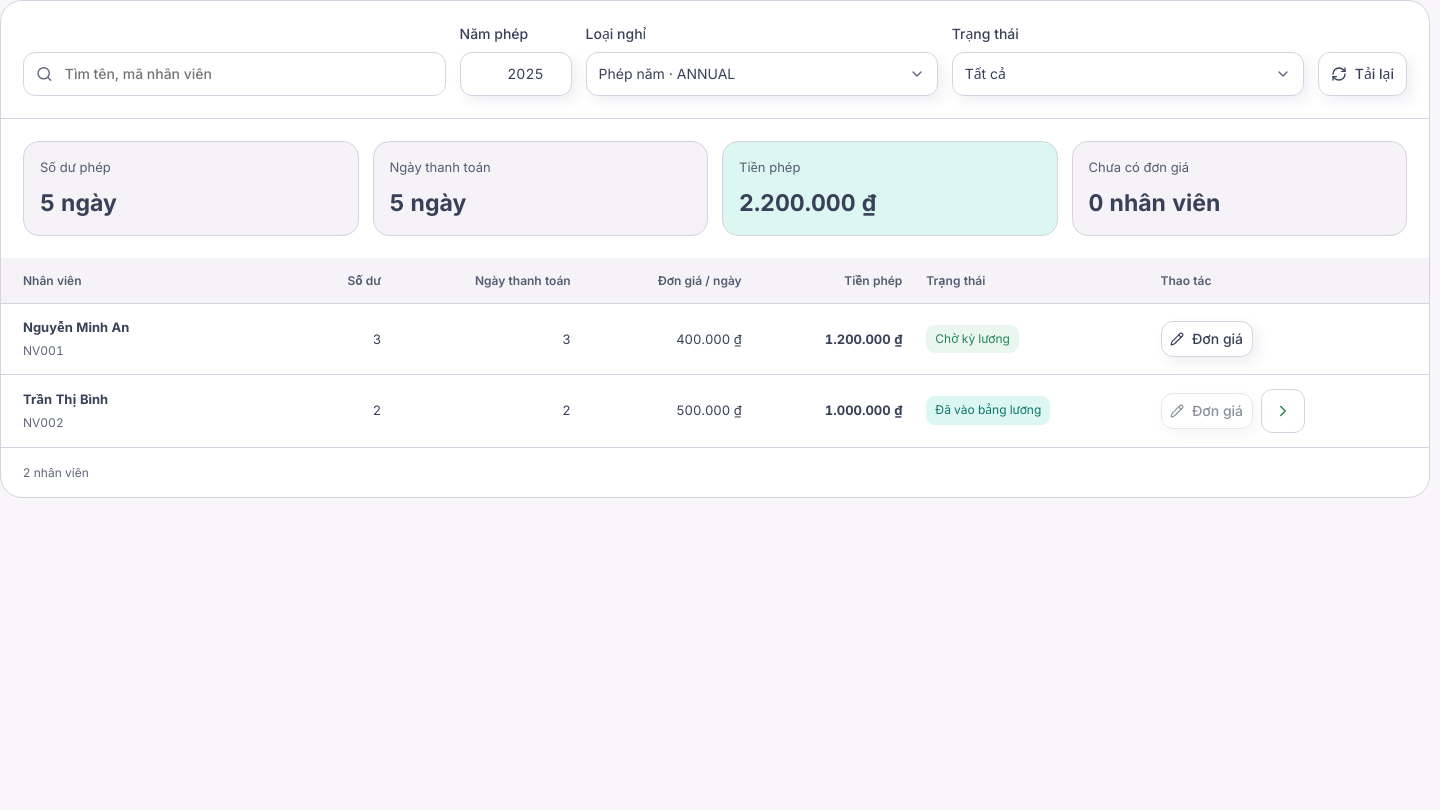
year-end leave settlement UI › preserves the editor and re-enables saving after a version conflict
Click the button "Đơn giá" in the row of "Nguyễn Minh An". click: [1206, 339]
box: left=1160, top=321, right=1252, bottom=357
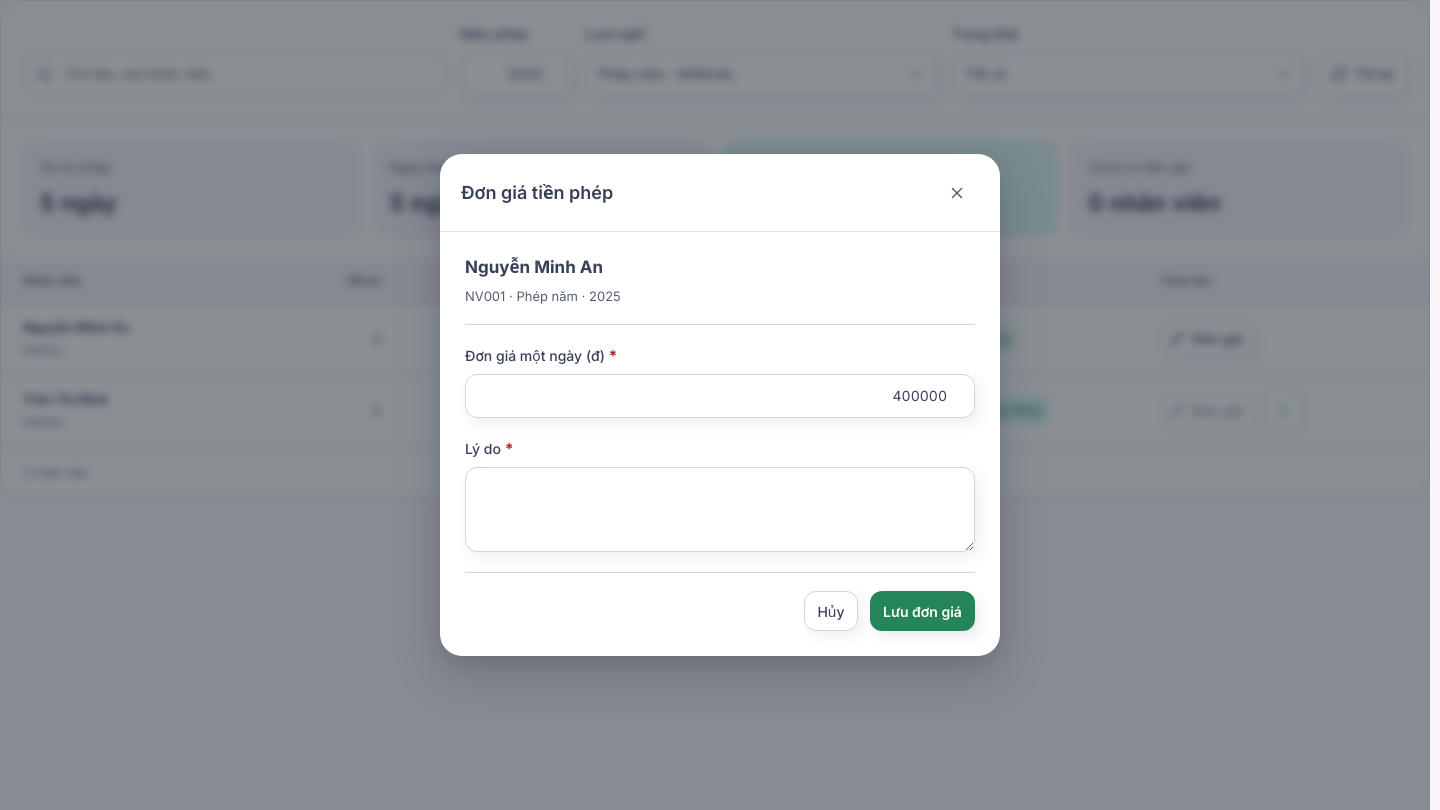
Type "Theo xác nhận nhân sự" into the text box labelled "Lý do *". click: [720, 510]
box: left=465, top=467, right=975, bottom=552
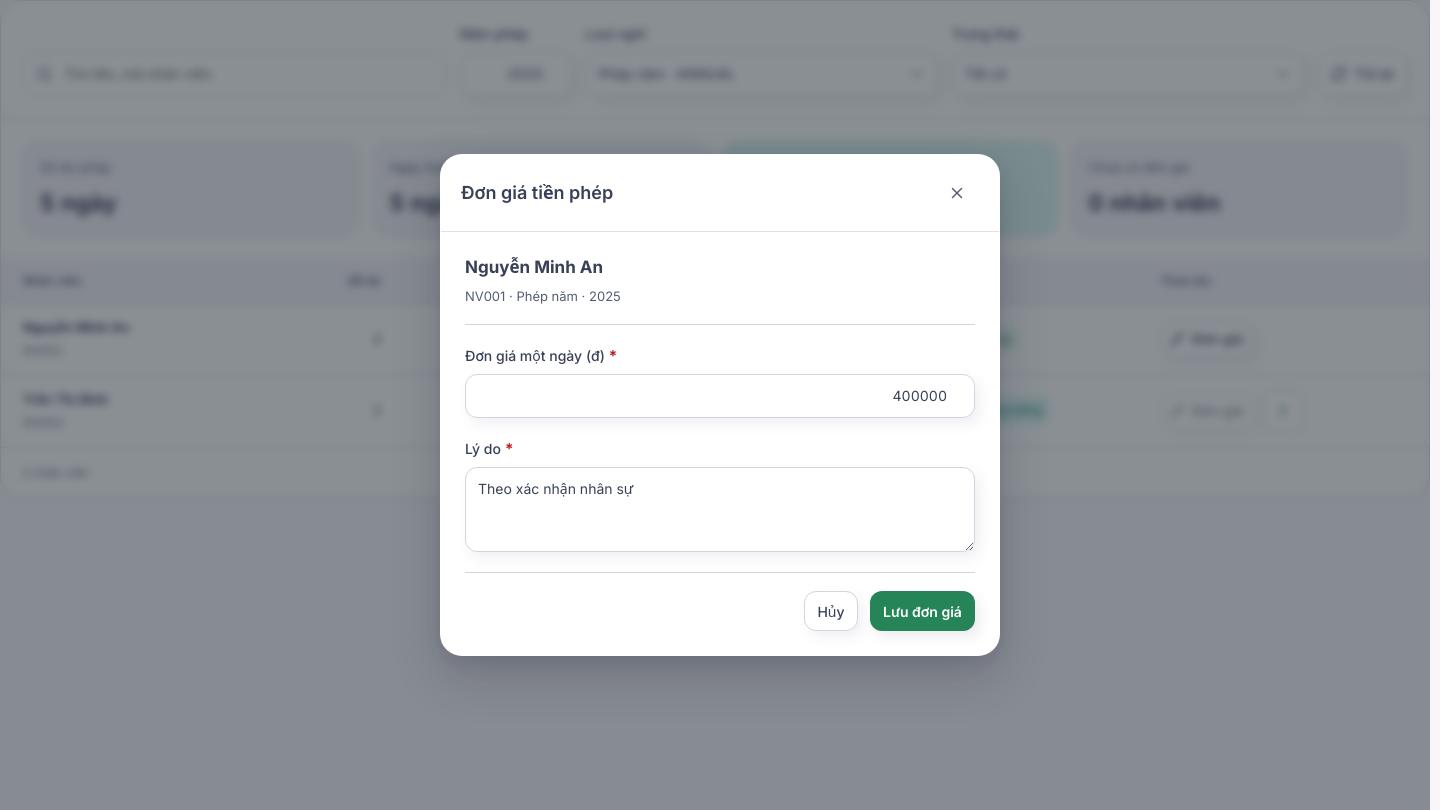
Click the button "Lưu đơn giá". click: [922, 611]
box: left=870, top=591, right=975, bottom=631
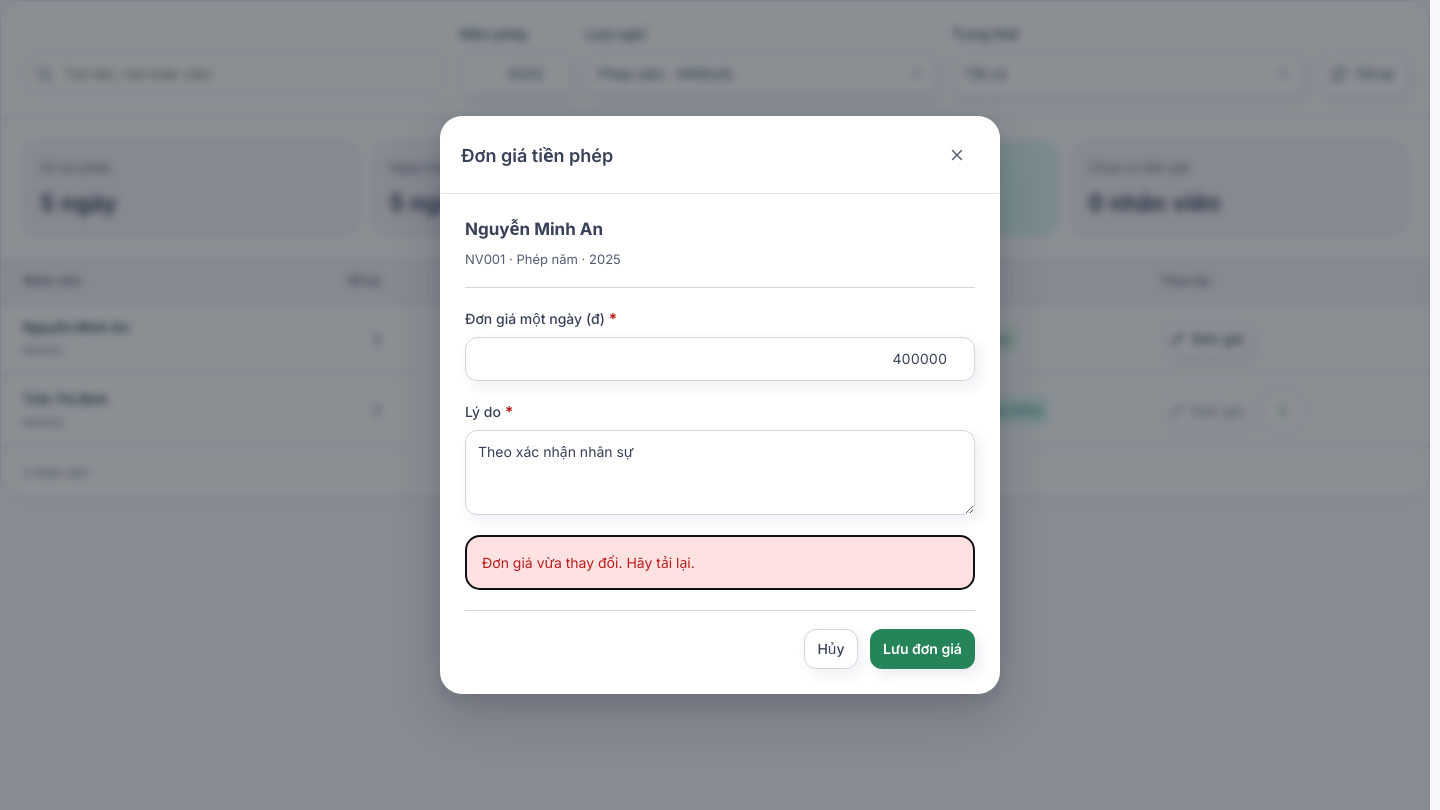
Expected: the button "Lưu đơn giá" is enabled, left=870, top=629, right=975, bottom=669
Expected: the message reads "Đơn giá vừa thay đổi. Hãy tải lại.", left=482, top=554, right=695, bottom=571
